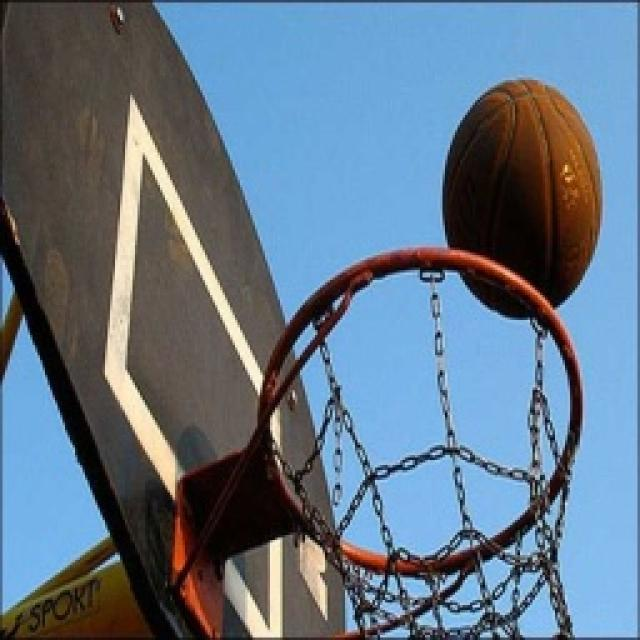rim: (432, 70, 612, 325)
